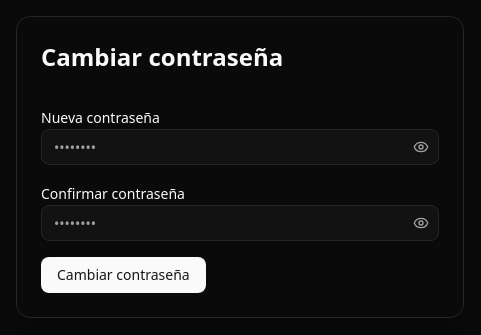
it: ResetPasswordScreen redirección › redirige al login con el mensaje correcto al cambiar la contraseña
The image size is (481, 335).
# Fills the fields
In the password field labelled "Nueva contraseña": (240, 147) [41,129,439,165], type "password123"
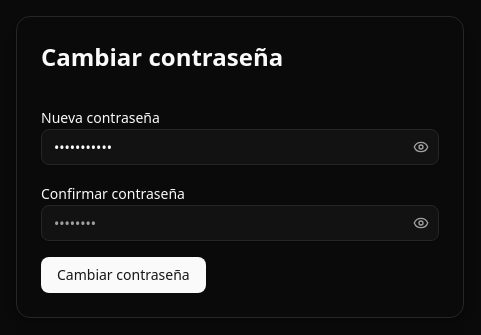
In the password field labelled "Confirmar contraseña": (240, 223) [41,205,439,241], type "password123"
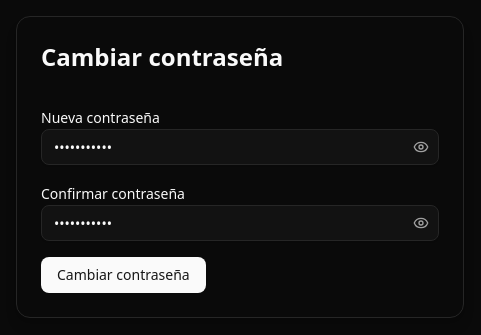
# The form is submitted
Submit the form from the button "Cambiar contraseña", box [41,257,206,293]
Wait 2000 ms
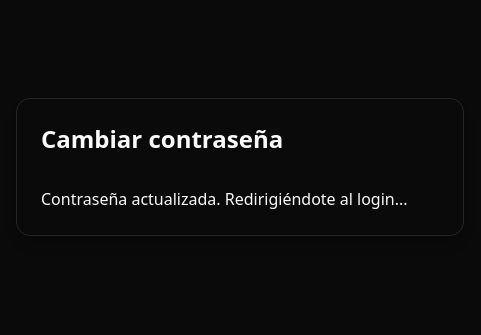
expect the text "Contraseña actualizada. Redirigiéndote al login..." is shown: met, box [41,187,439,211]
